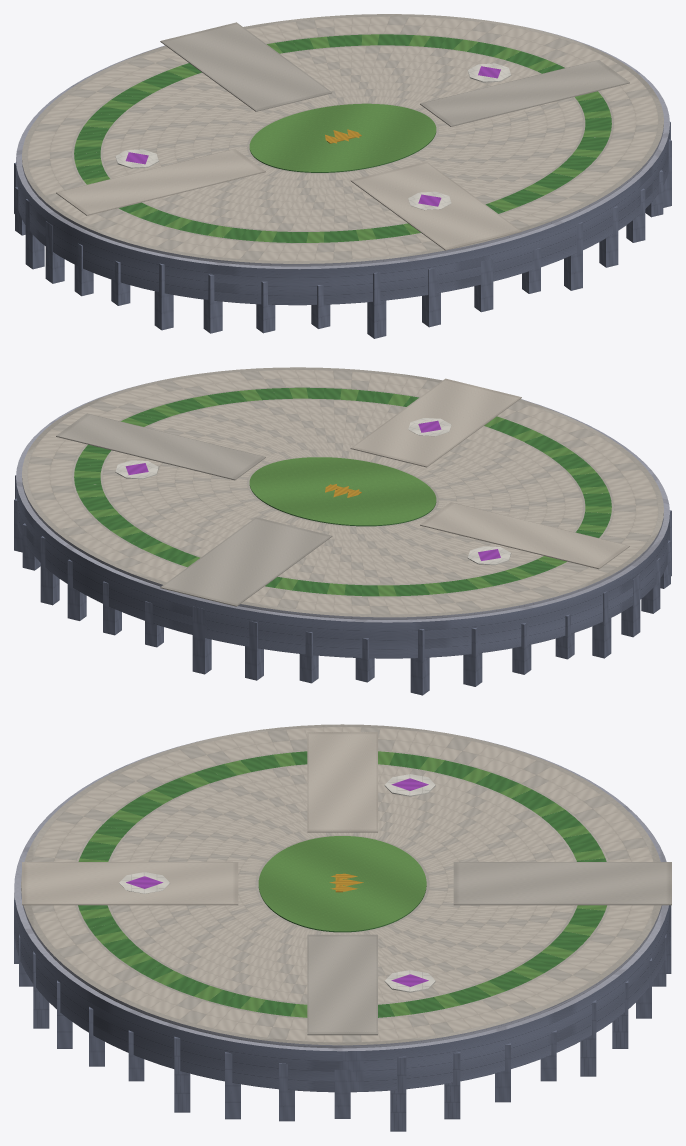
Rendered from high_crown_arena.obj.
3 views of the same model, one above another, from view 1: azimuth 30°, elevation 25°; view 2: azimuth 150°, elevation 25°; view 3: azimuth 270°, elevation 25° (orthographic). The views are drawn at different scales.
Parts seen in each view (by area): view 1: high_crown_arena; view 2: high_crown_arena; view 3: high_crown_arena.
Part boxes in pixels (box(x1,y1,x2,y2)): high_crown_arena: box(14, 14, 671, 338); high_crown_arena: box(14, 367, 671, 695); high_crown_arena: box(14, 724, 671, 1131).
Bounding box in the file's own units: 80.04 × 10.05 × 68.12.
Materials: 9 (9 with a texture image).
